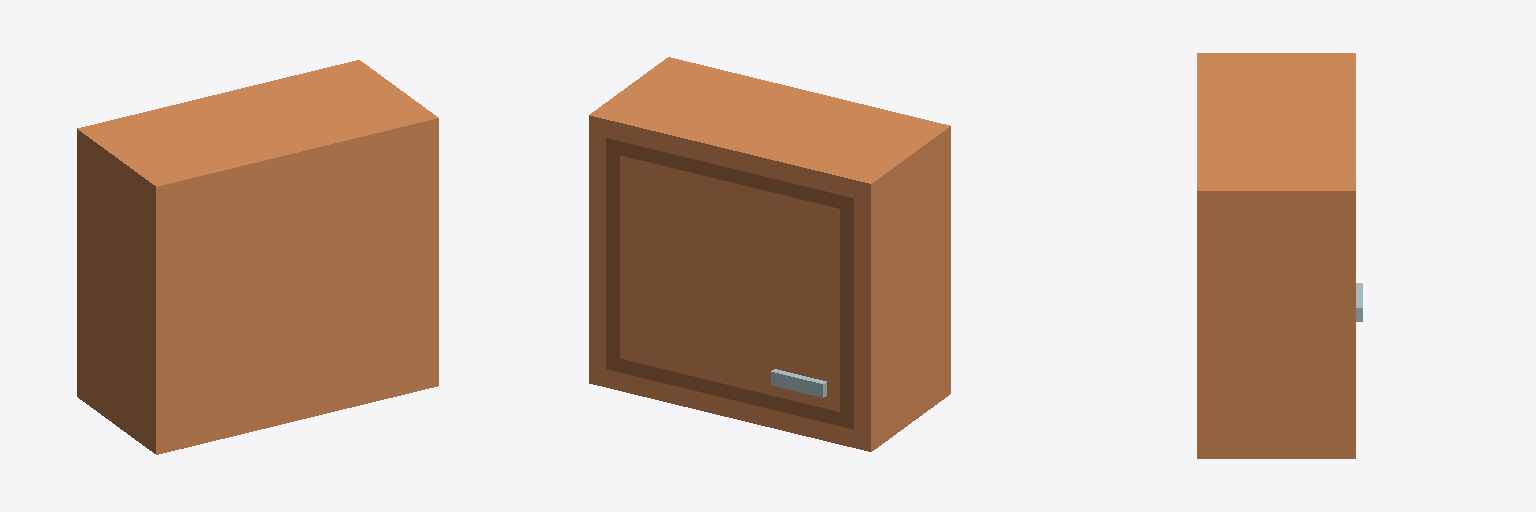
The model's file is kitchenCabinetUpper.obj.
The picture shows the model from 3 angles: view 1: azimuth 30°, elevation 25°; view 2: azimuth 150°, elevation 25°; view 3: azimuth 270°, elevation 25°; orthographic projection.
Visible parts, largest first — view 1: kitchenCabinetUpper; view 2: kitchenCabinetUpper, door; view 3: kitchenCabinetUpper.
Part boxes in pixels (x1,y1,x2,y2): kitchenCabinetUpper: (77,60,438,454); kitchenCabinetUpper: (589,57,950,451); door: (606,138,853,429); kitchenCabinetUpper: (1197,53,1355,458).
Size of the model in its own units: 0.43 by 0.39 by 0.22.